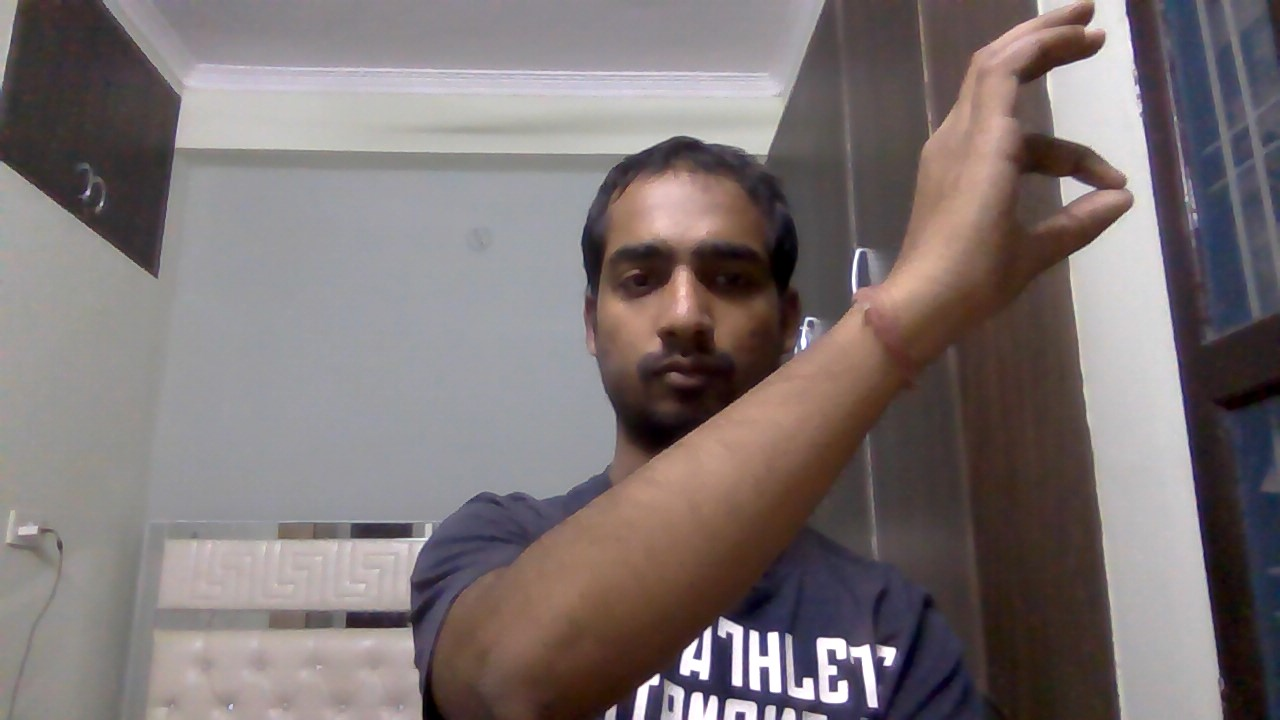Copy: (883, 4, 1148, 338)
